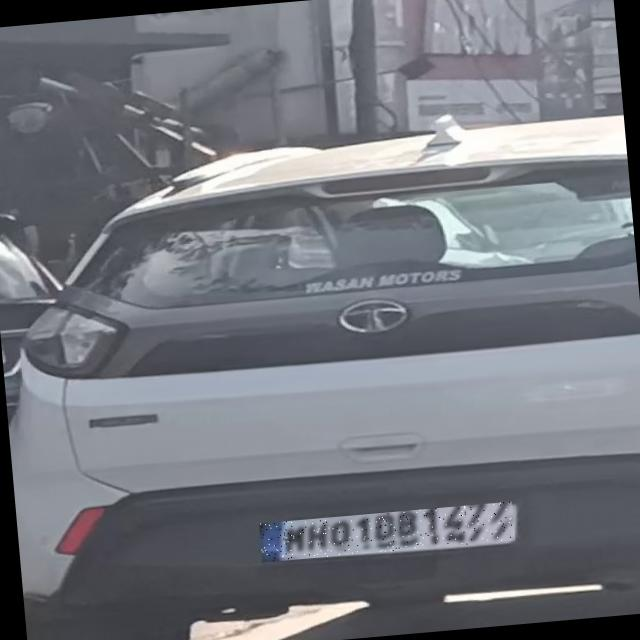Plate: (260, 502, 516, 563)
